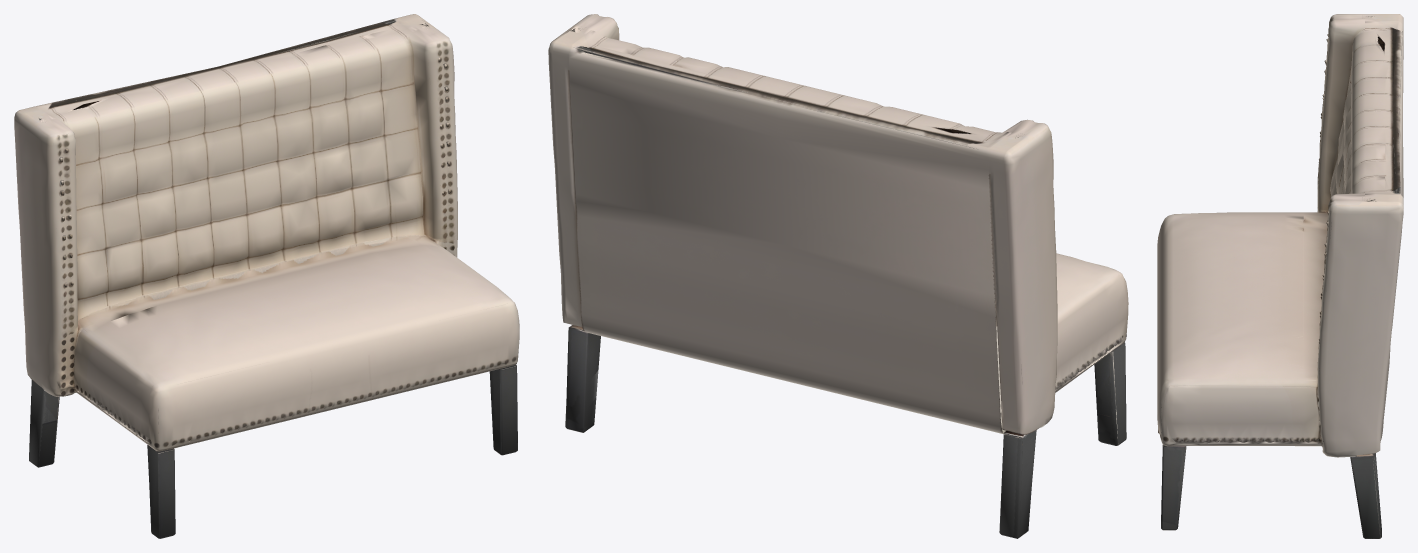
File: ivory_faux_leather_lo_0120214712_texture.glb
3 views of the same model, side by side, from view 1: azimuth 30°, elevation 25°; view 2: azimuth 150°, elevation 25°; view 3: azimuth 270°, elevation 25° (orthographic). The views are drawn at different scales.
Visible parts, largest first — view 1: Mesh_0; view 2: Mesh_0; view 3: Mesh_0.
Part boxes in pixels (x1=…): Mesh_0: x1=14, y1=14, x2=519, y2=538; Mesh_0: x1=548, y1=14, x2=1128, y2=538; Mesh_0: x1=1157, y1=14, x2=1403, y2=538.
Bounding box in the file's own units: 1.22 × 0.9901 × 0.6559.
Materials: 1 (1 with a texture image).
